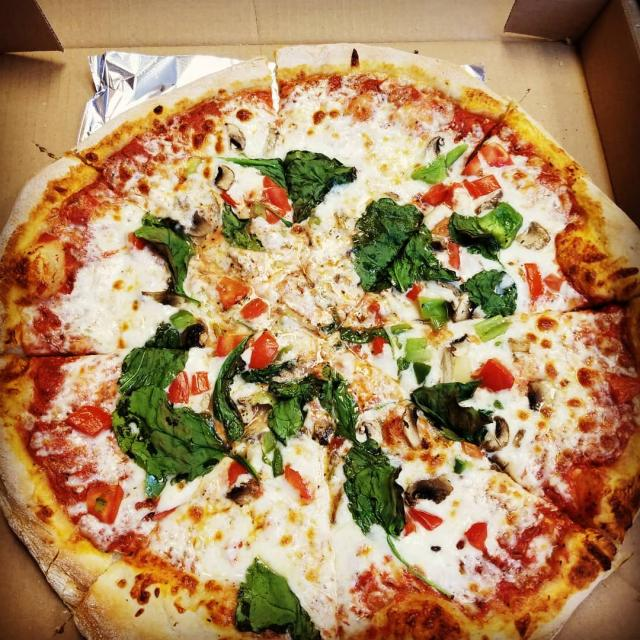basil: (105, 299, 268, 493), (218, 128, 358, 223), (249, 346, 368, 453), (343, 188, 459, 294), (225, 546, 335, 640), (124, 205, 210, 309), (337, 436, 408, 536), (404, 376, 504, 444), (459, 266, 528, 319), (316, 312, 400, 354), (218, 191, 268, 261)
pizza: (0, 45, 640, 640)
